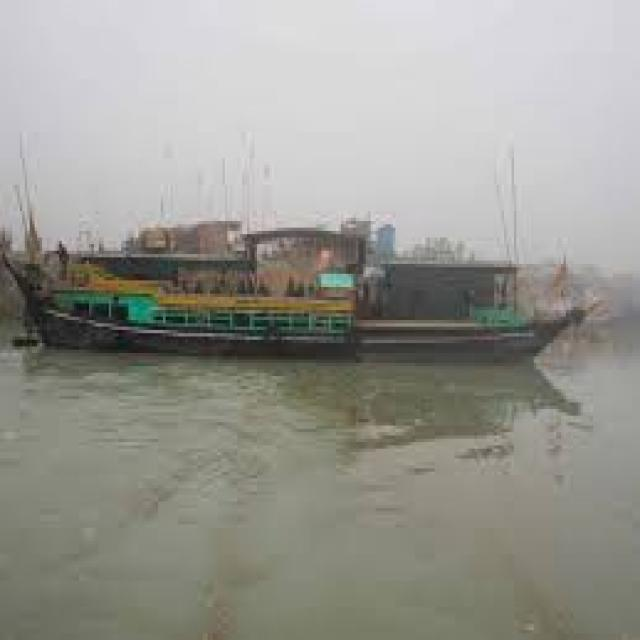cargoship: (26, 194, 583, 356)
